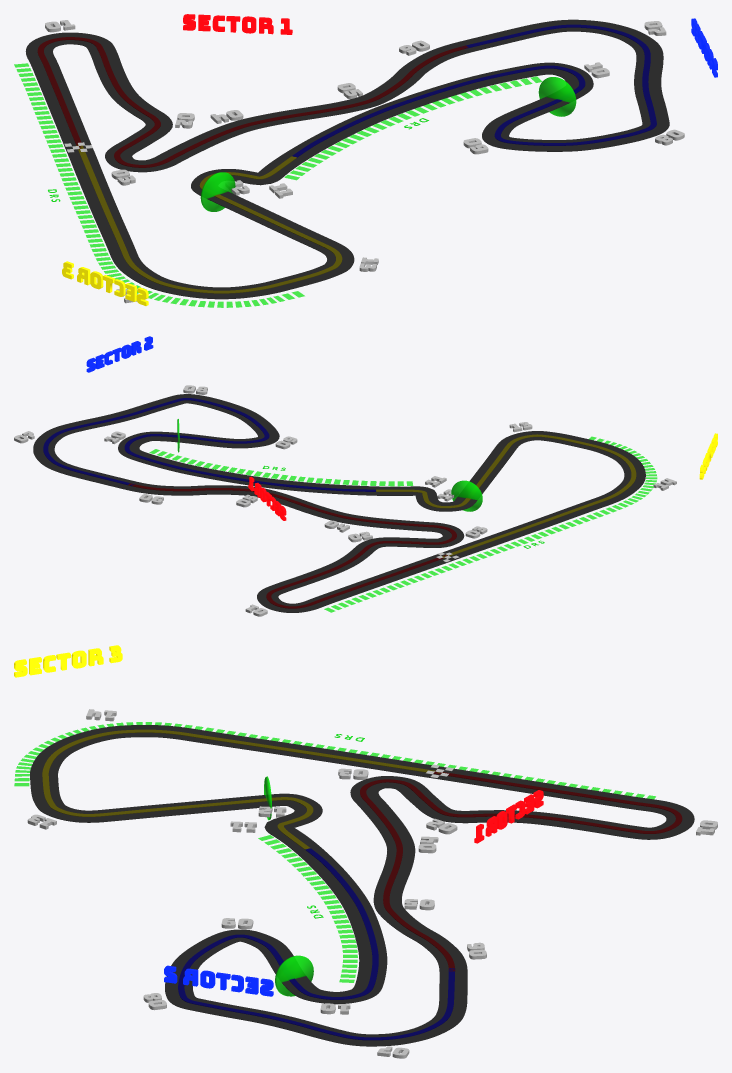
The model's file is zandvoort.gltf.
The picture shows the model from 3 angles, top to bottom: view 1: azimuth 30°, elevation 25°; view 2: azimuth 150°, elevation 25°; view 3: azimuth 270°, elevation 25°; orthographic projection. The views are drawn at different scales.
Parts seen in each view (by area): view 1: track plane, track plane.002, DRSPlane1.002, track plane.001, track plane.003, DRSPlane1.001, Text, Text.002, DrsDetect1.002, DrsDetect1.001, Text.001; view 2: track plane, track plane.002, track plane.001, DRSPlane1.002, track plane.003, DRSPlane1.001, Text.001, DrsDetect1.001, Text; view 3: track plane, track plane.001, track plane.002, track plane.003, DRSPlane1.002, DRSPlane1.001, Text.001, Text.002, Text, DrsDetect1.002.
Part boxes in pixels (left/top/right/bottom): track plane: left=25, top=19, right=669, bottom=299; track plane.002: left=292, top=24, right=656, bottom=157; DRSPlane1.002: left=14, top=63, right=304, bottom=307; track plane.001: left=37, top=37, right=468, bottom=167; track plane.003: left=76, top=145, right=342, bottom=293; DRSPlane1.001: left=284, top=76, right=542, bottom=180; Text: left=183, top=14, right=292, bottom=34; Text.002: left=62, top=261, right=148, bottom=305; DrsDetect1.002: left=538, top=77, right=576, bottom=116; DrsDetect1.001: left=200, top=172, right=235, bottom=211; Text.001: left=691, top=18, right=717, bottom=77; track plane: left=33, top=394, right=645, bottom=612; track plane.002: left=43, top=398, right=375, bottom=491; track plane.001: left=128, top=483, right=456, bottom=608; DRSPlane1.002: left=324, top=436, right=657, bottom=612; track plane.003: left=376, top=434, right=636, bottom=558; DRSPlane1.001: left=149, top=449, right=413, bottom=486; Text.001: left=86, top=336, right=153, bottom=372; DrsDetect1.001: left=451, top=480, right=482, bottom=511; Text: left=248, top=476, right=286, bottom=520; track plane: left=30, top=725, right=694, bottom=1046; track plane.001: left=360, top=771, right=682, bottom=971; track plane.002: left=178, top=848, right=455, bottom=1040; track plane.003: left=42, top=729, right=444, bottom=849; DRSPlane1.002: left=14, top=722, right=655, bottom=799; DRSPlane1.001: left=258, top=835, right=357, bottom=982; Text.001: left=164, top=965, right=273, bottom=996; Text.002: left=14, top=645, right=122, bottom=677; Text: left=474, top=790, right=543, bottom=843; DrsDetect1.002: left=275, top=955, right=313, bottom=996.
Bounding box in the file's own units: 76.4 × 7.56 × 61.37.
